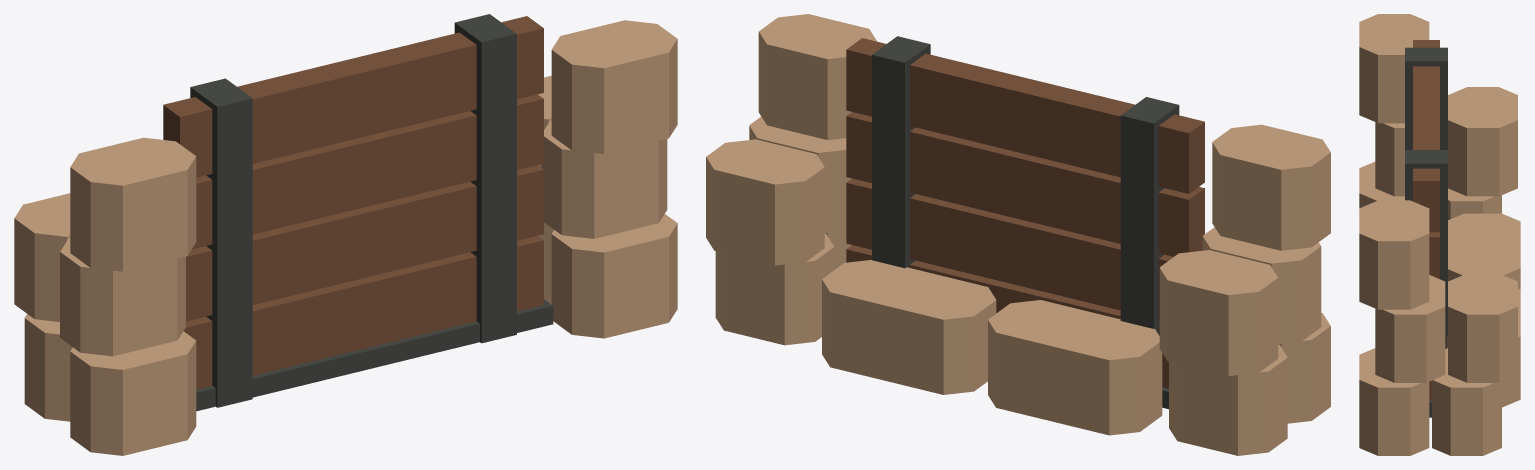
The model's file is barricade.glb.
The picture shows the model from 3 angles, left to right: view 1: azimuth 30°, elevation 25°; view 2: azimuth 150°, elevation 25°; view 3: azimuth 270°, elevation 25°; orthographic projection. The views are drawn at different scales.
Visible parts, largest first — view 1: barricade; view 2: barricade; view 3: barricade.
Boxes of the visible parts, x1=… form: barricade: x1=14, y1=14, x2=677, y2=455; barricade: x1=706, y1=14, x2=1330, y2=455; barricade: x1=1359, y1=14, x2=1520, y2=455.
Size of the model in its own units: 2 by 0.98 by 0.6.
